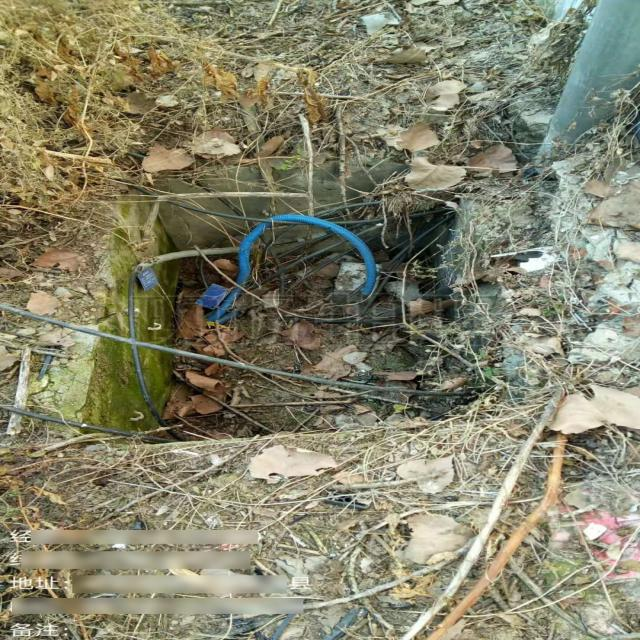Uncovered: (76, 162, 555, 450)
